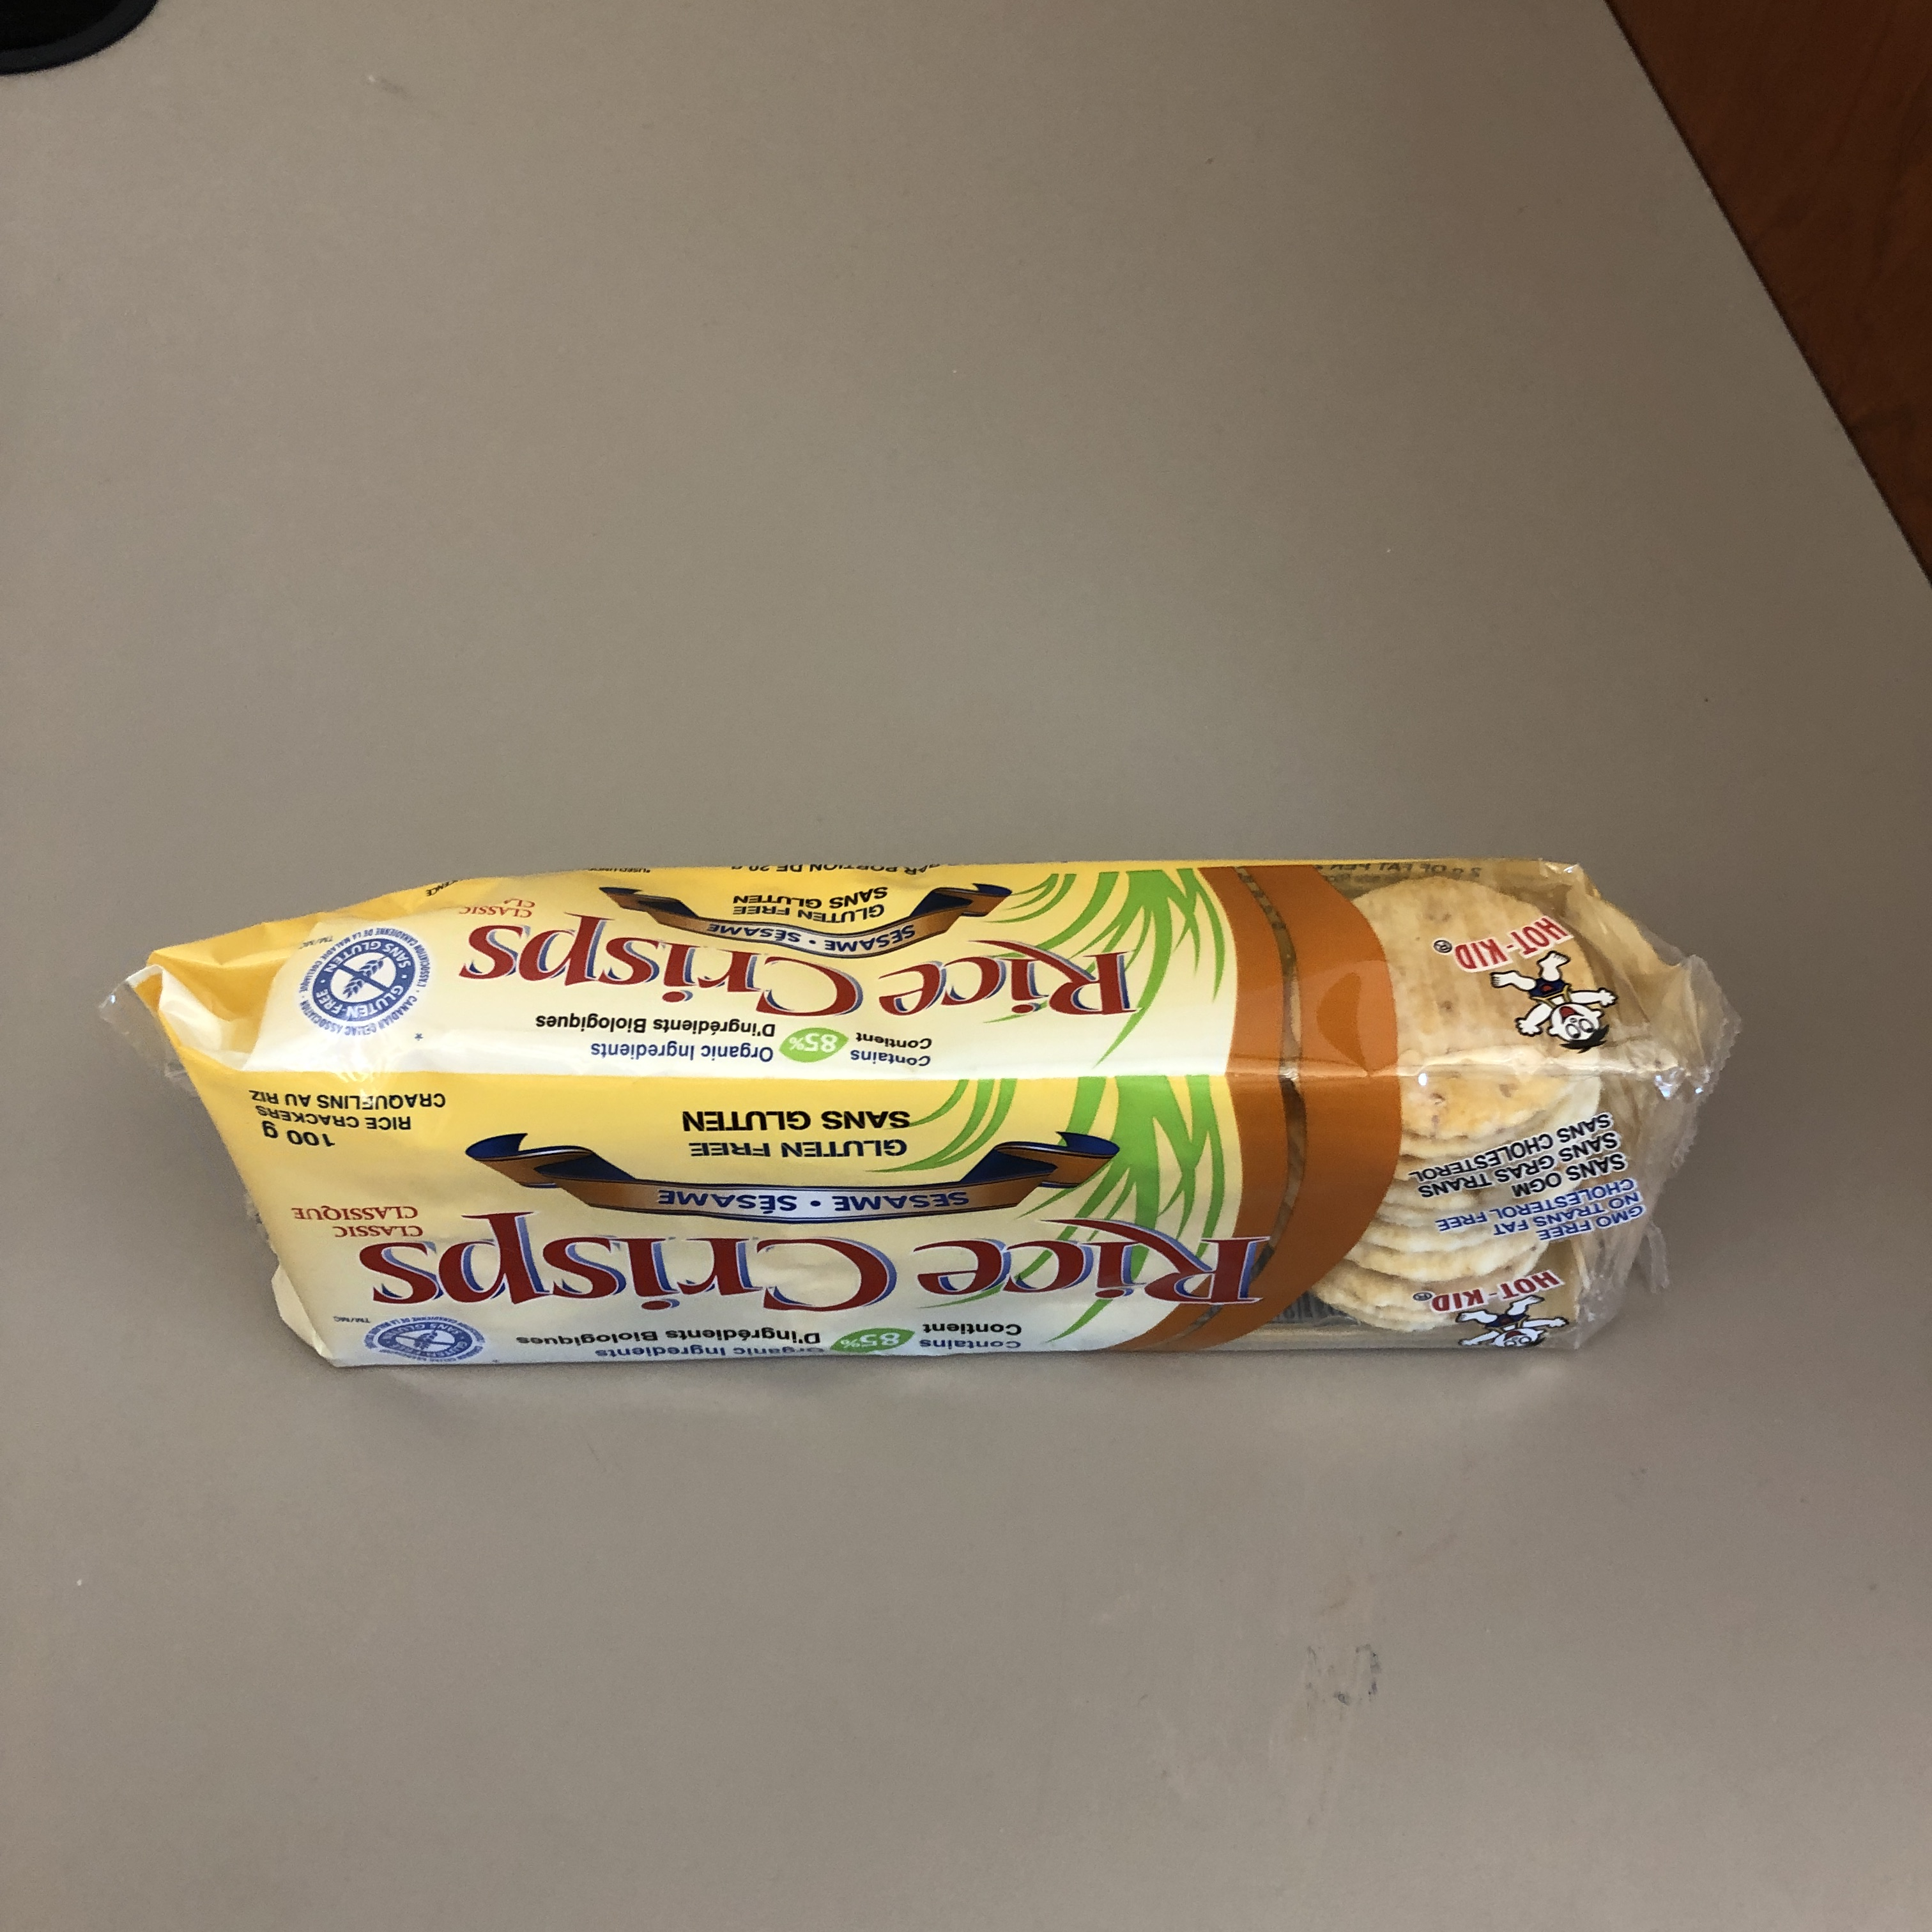hot_kid_rice_crisps_sesame: (832, 216, 1377, 1776)
